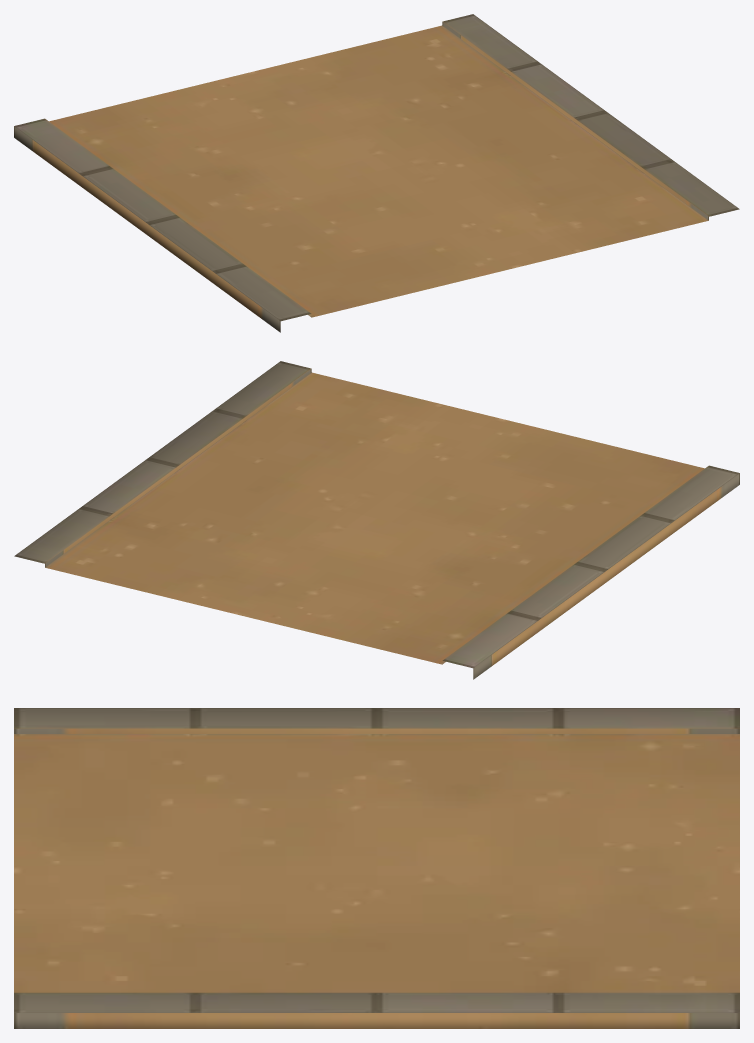
File: tile.straight.glb
The picture shows the model from 3 angles, top to bottom: view 1: azimuth 30°, elevation 25°; view 2: azimuth 150°, elevation 25°; view 3: azimuth 270°, elevation 25°; orthographic projection. The views are drawn at different scales.
Parts seen in each view (by area): view 1: path.tile.straight; view 2: path.tile.straight; view 3: path.tile.straight.
Part boxes in pixels (x1,y1,x2,y2): path.tile.straight: (14,14,739,332); path.tile.straight: (14,361,739,679); path.tile.straight: (14,708,739,1028).
Size of the model in its own units: 0.994 by 0.024 by 1.
1 material, 1 textured.
